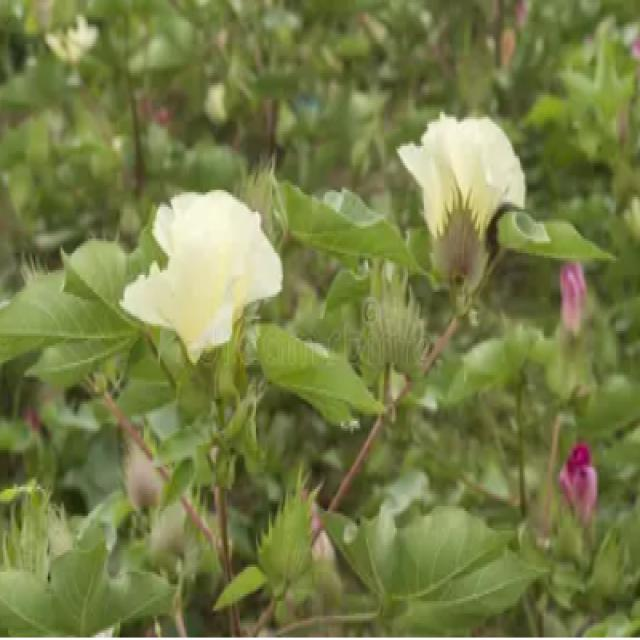Cotton Blossom: (119, 190, 290, 362), (389, 113, 532, 303), (552, 424, 608, 540), (562, 252, 594, 356)
Cotton Bud: (346, 262, 438, 399), (249, 467, 322, 591)
